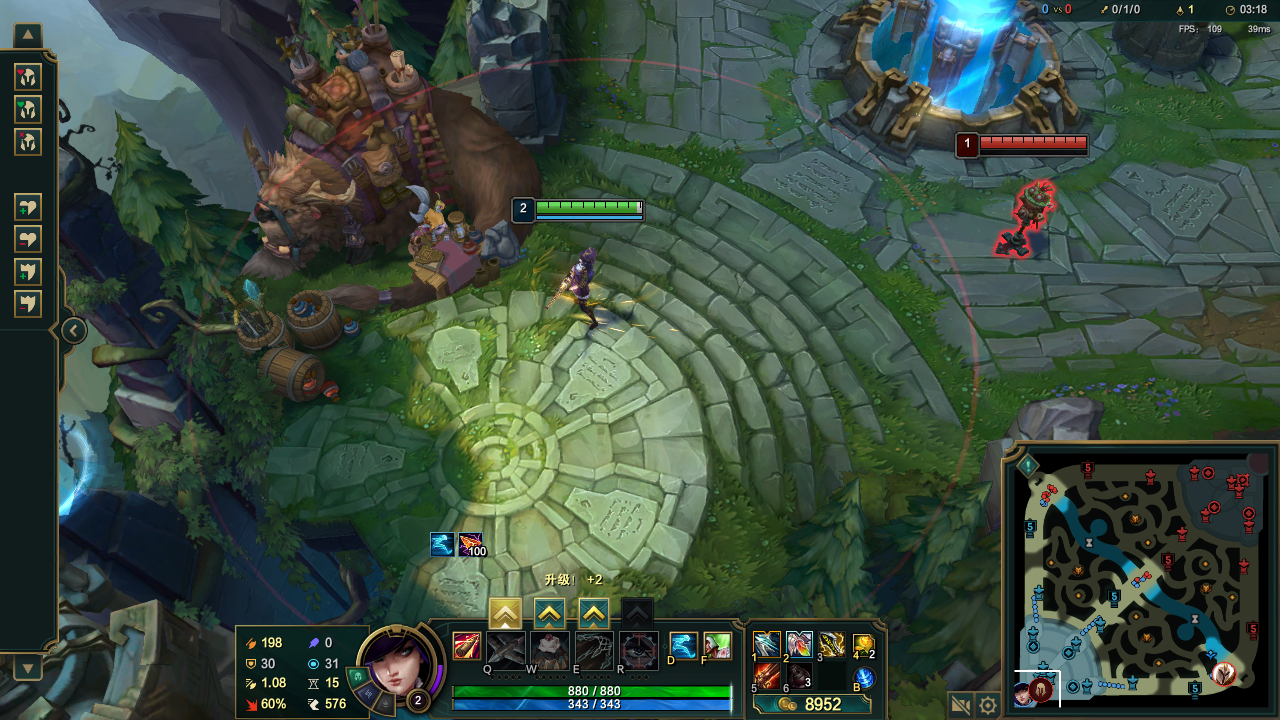DFYX: (979, 136, 1089, 146)
